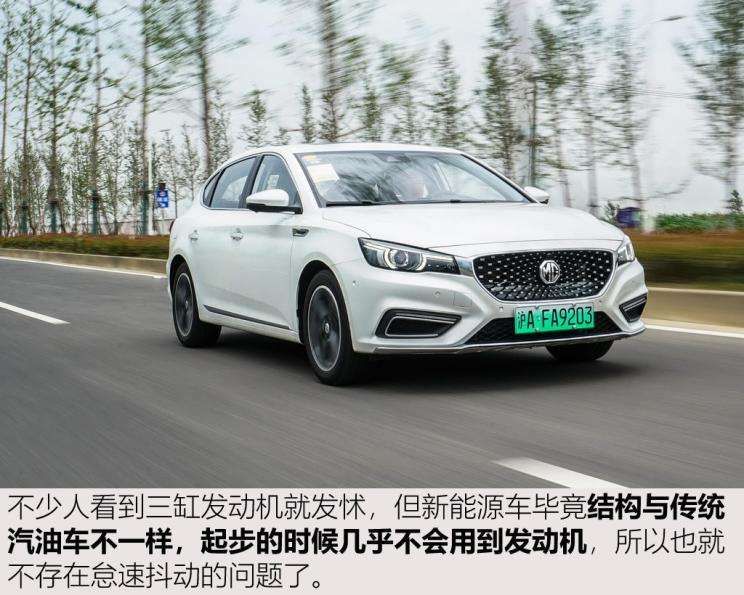plate: (501, 292, 603, 344)
